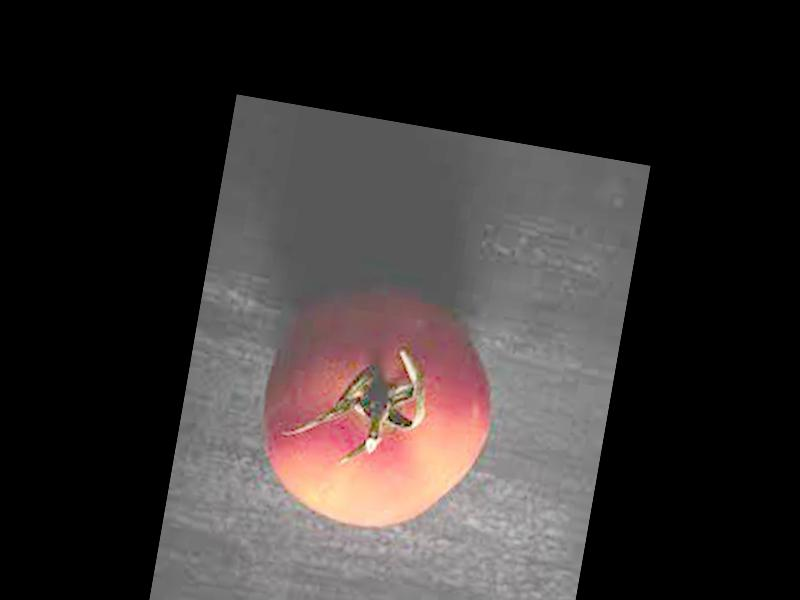Tomato: (248, 276, 508, 546)
